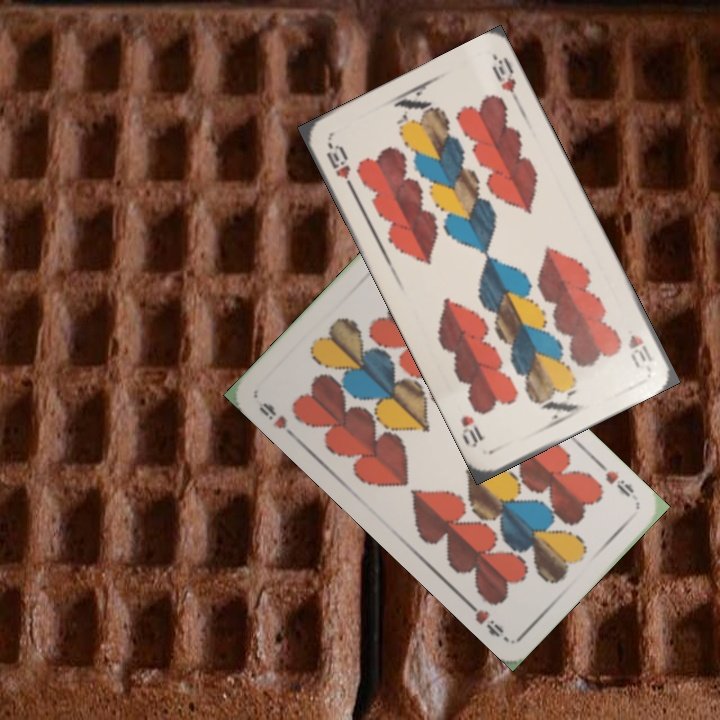H10: (322, 138, 357, 194), (624, 331, 656, 370)
H9: (254, 398, 299, 442), (593, 458, 637, 500)
